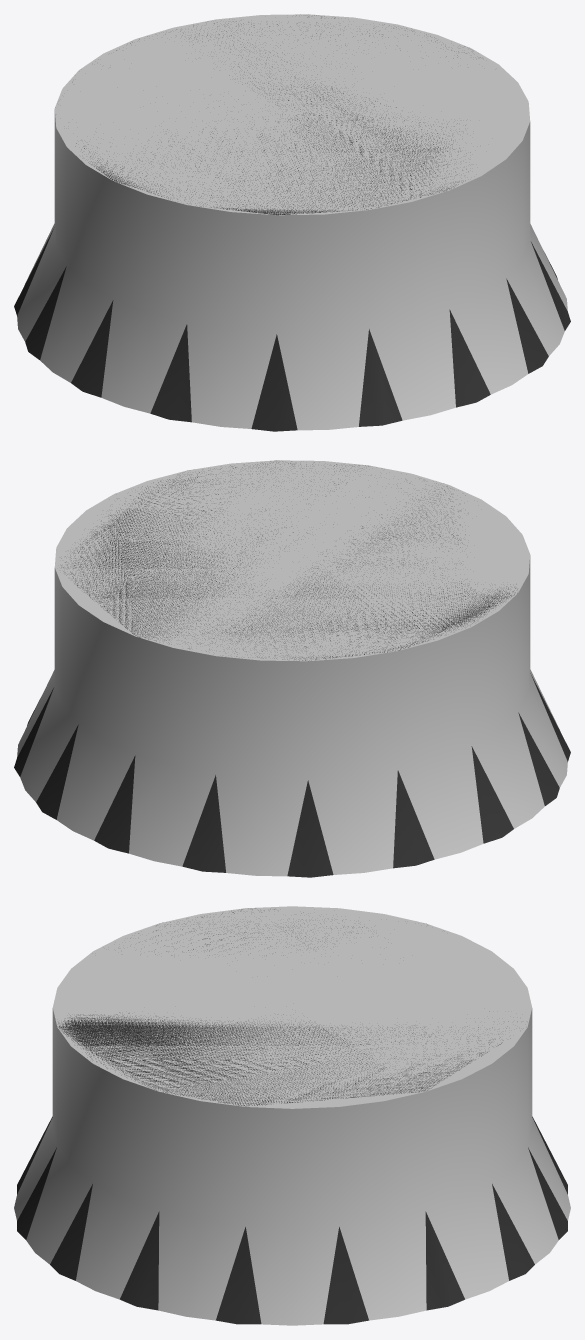
The model's file is Str_Nova_Stage1_Mount.FBX.
3 views of the same model, one above another, from view 1: azimuth 30°, elevation 25°; view 2: azimuth 150°, elevation 25°; view 3: azimuth 270°, elevation 25° (orthographic).
Visible parts, largest first — view 1: Str_S1B_Stage1_Mount, Str_S1B_Stage1_Mount_Col; view 2: Str_S1B_Stage1_Mount, Str_S1B_Stage1_Mount_Col; view 3: Str_S1B_Stage1_Mount, Str_S1B_Stage1_Mount_Col.
Boxes of the visible parts, x1,y1,x2,y2 form: Str_S1B_Stage1_Mount: [17, 14, 567, 430]; Str_S1B_Stage1_Mount_Col: [14, 15, 570, 431]; Str_S1B_Stage1_Mount: [17, 460, 567, 876]; Str_S1B_Stage1_Mount_Col: [14, 460, 570, 877]; Str_S1B_Stage1_Mount: [14, 906, 570, 1325]; Str_S1B_Stage1_Mount_Col: [17, 908, 567, 1324].
Size of the model in its own units: 436 by 173 by 436.
